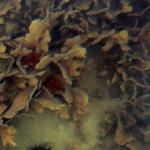alive: (2, 2, 146, 148)
